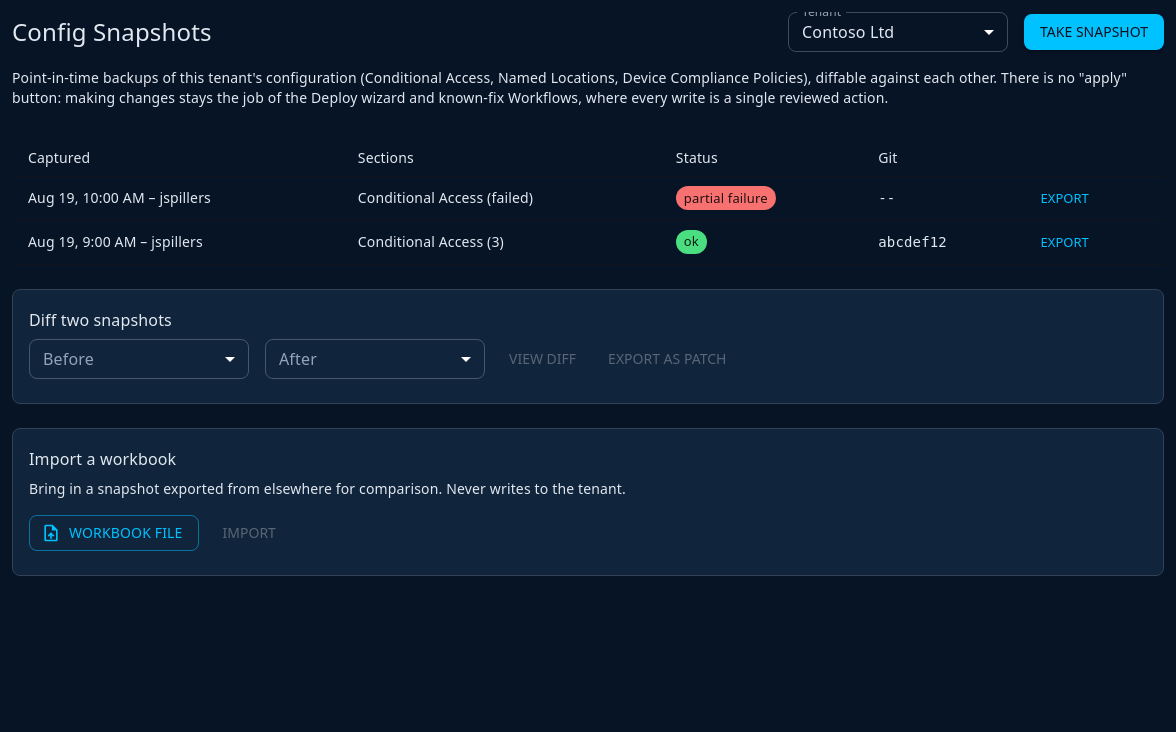
ConfigSnapshots › views a diff between two runs and renders field changes
Expected: the text "Conditional Access (3)" is shown, [342,220,660,264]
Click the dropdown named "Before" next to "Before" at [139, 359], box [29,339,249,379]
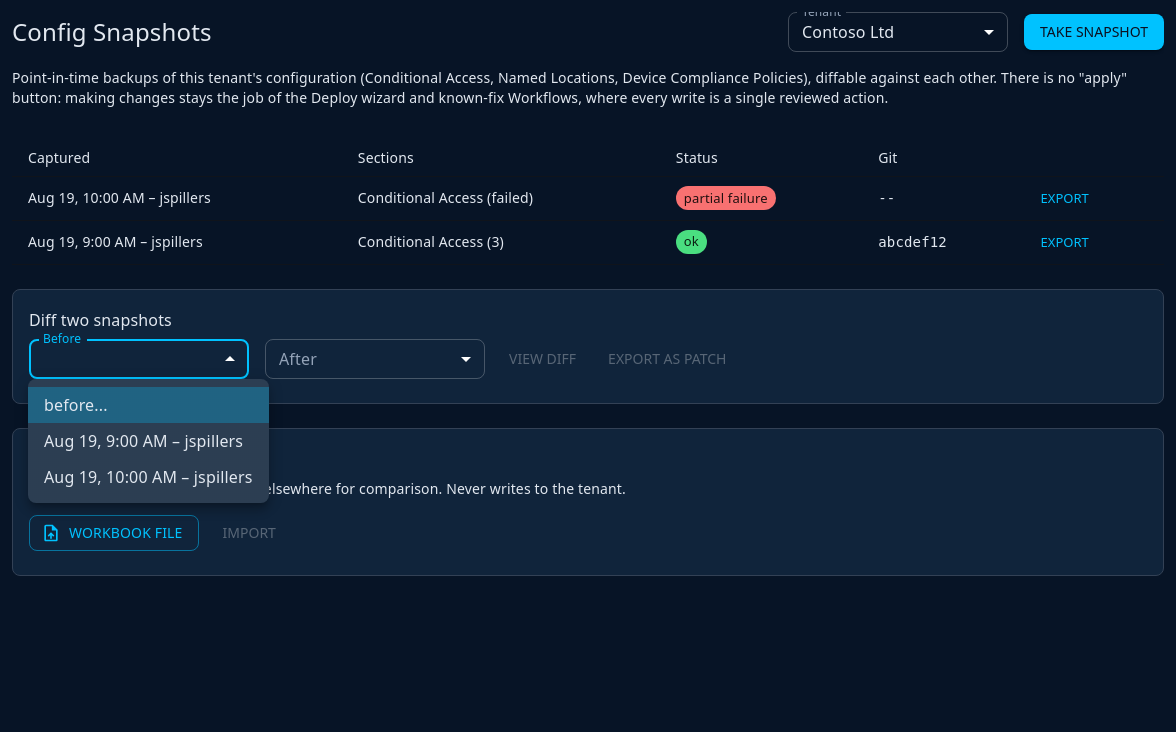
Click the option "Aug 19, 9:00 AM – jspillers" at [144, 441], box [44,430,243,452]
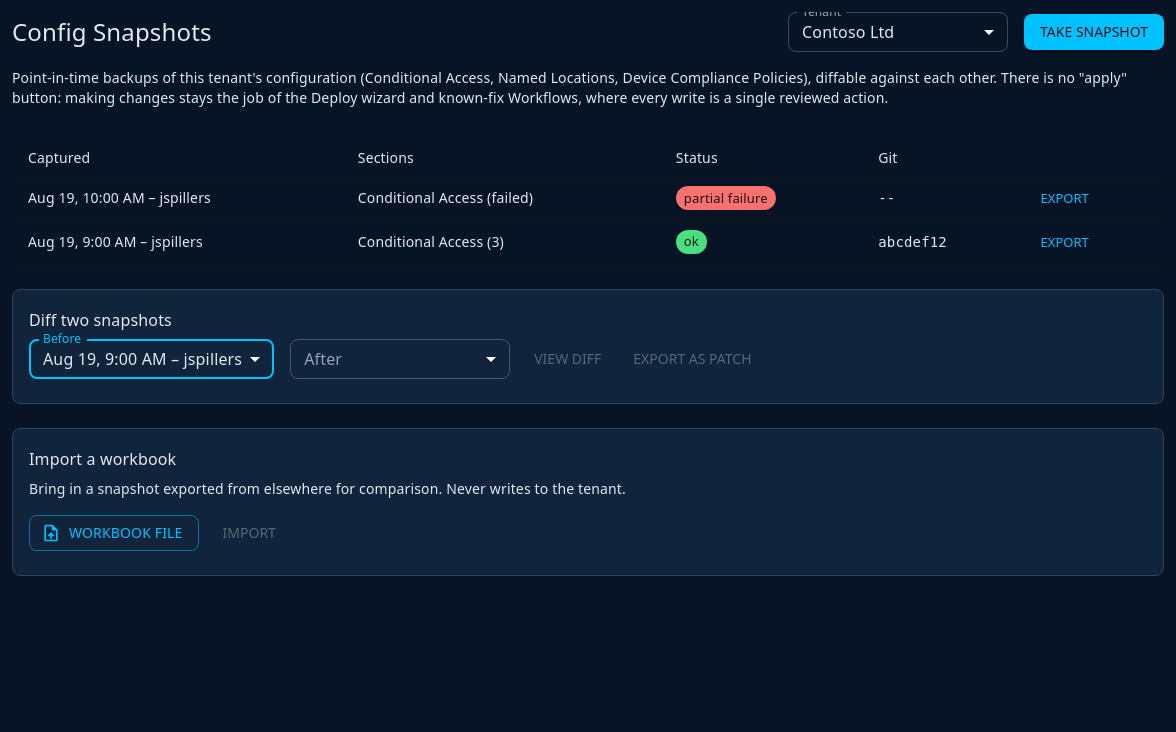
Click the dropdown named "After" at [400, 359], box [290,339,510,379]
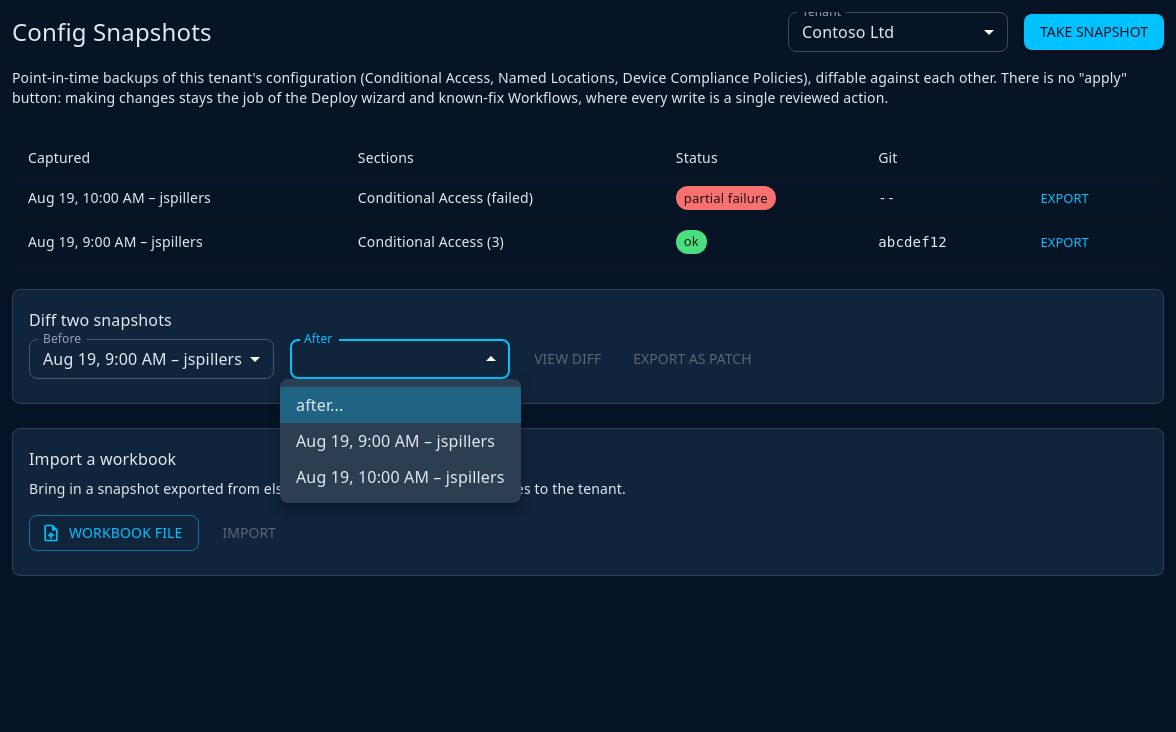
Click the option "Aug 19, 10:00 AM – jspillers" at [400, 477], box [280,459,520,495]
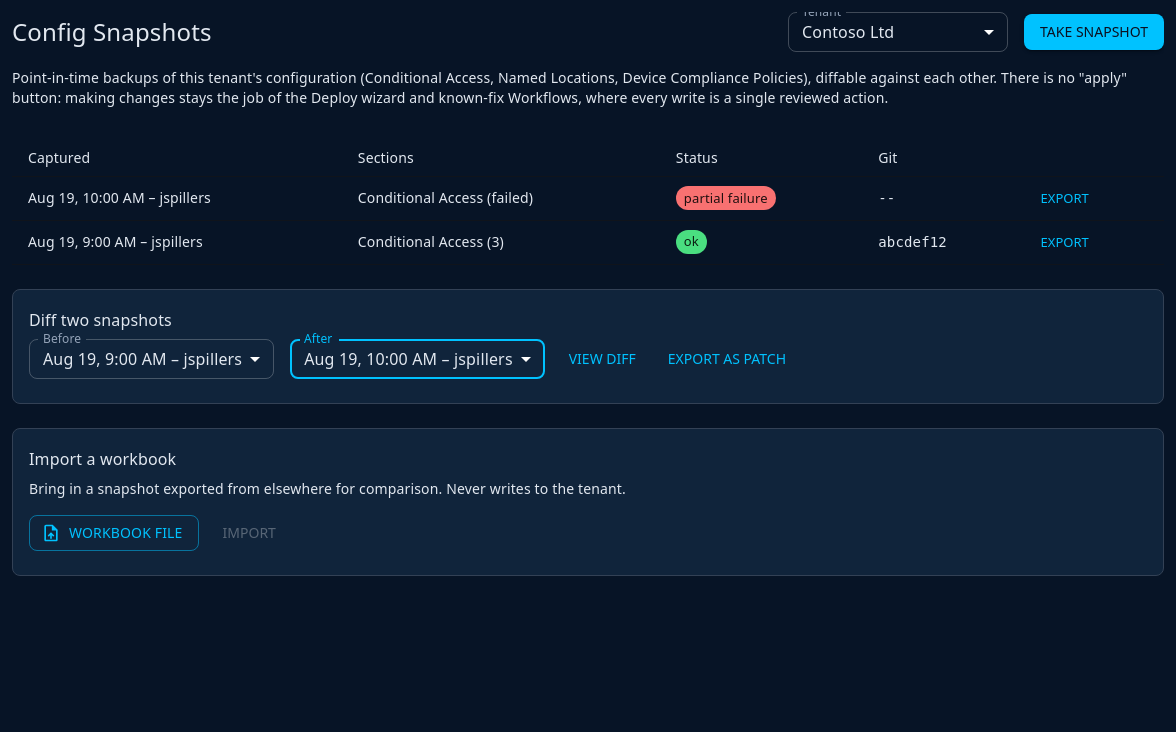
Click the button "View diff" at [602, 359], box [561,341,644,377]
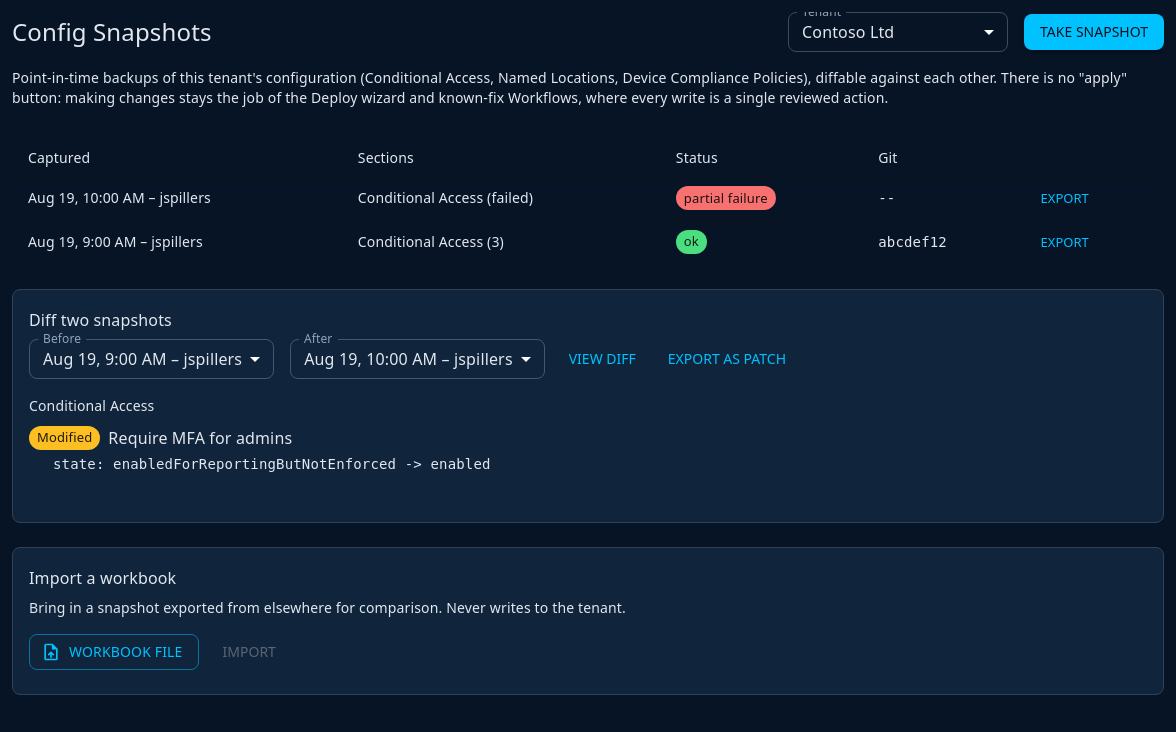
Now the text "Modified" is shown, box [37,428,92,446]
Now the text "Require MFA for admins" is shown, box [108,426,292,450]
Now the text "state: enabledForReportingButNotEnforced -> enabled" is shown, box [53,454,491,474]
